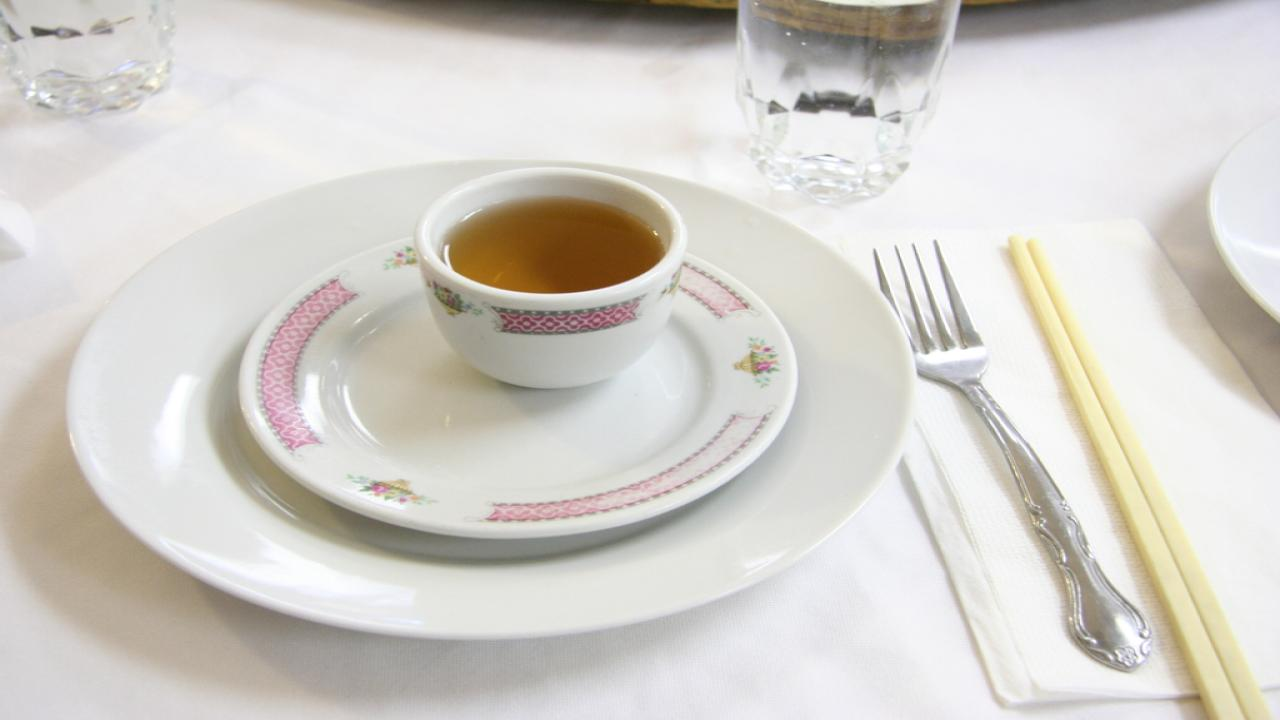chopstick: (1010, 233, 1280, 720)
fork: (866, 236, 1155, 676)
